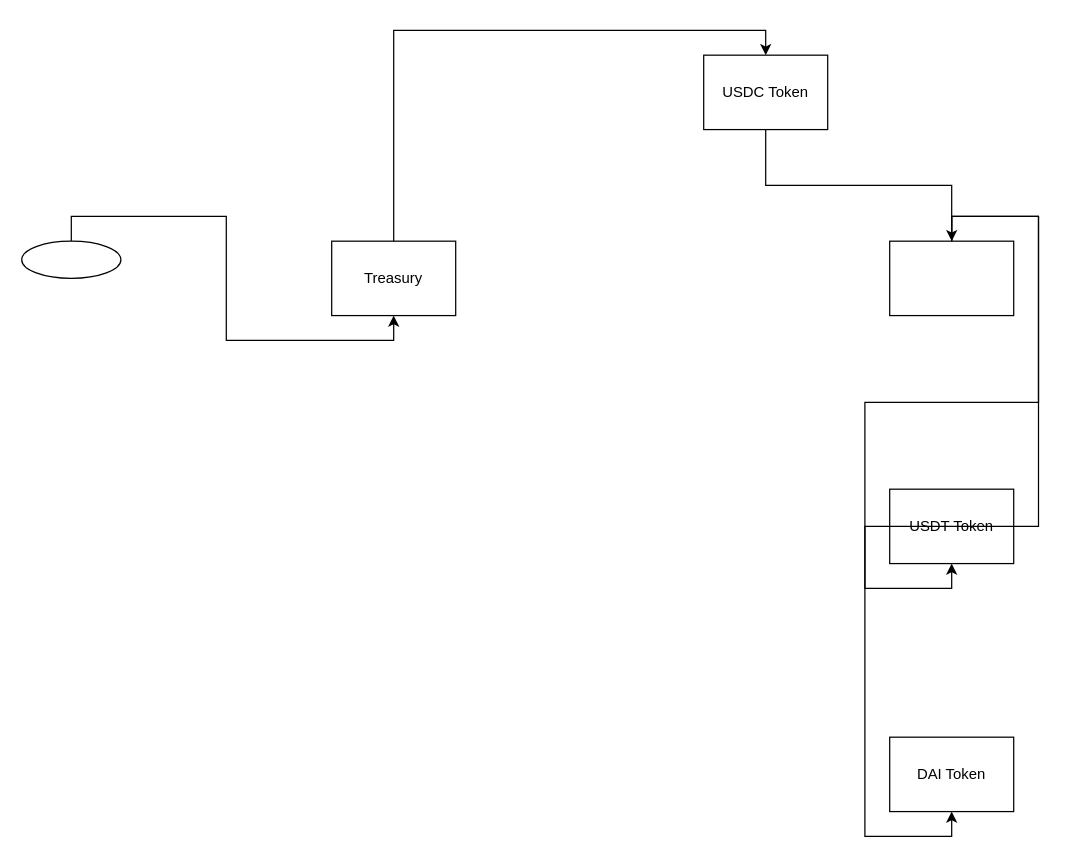
Image size: 1070x868. Some labels were removed from this diagram. Each missing label, with the centre of its shape:
"Owner" goes at pixel 70 259.
"Uniswap" goes at pixel 951 278.
